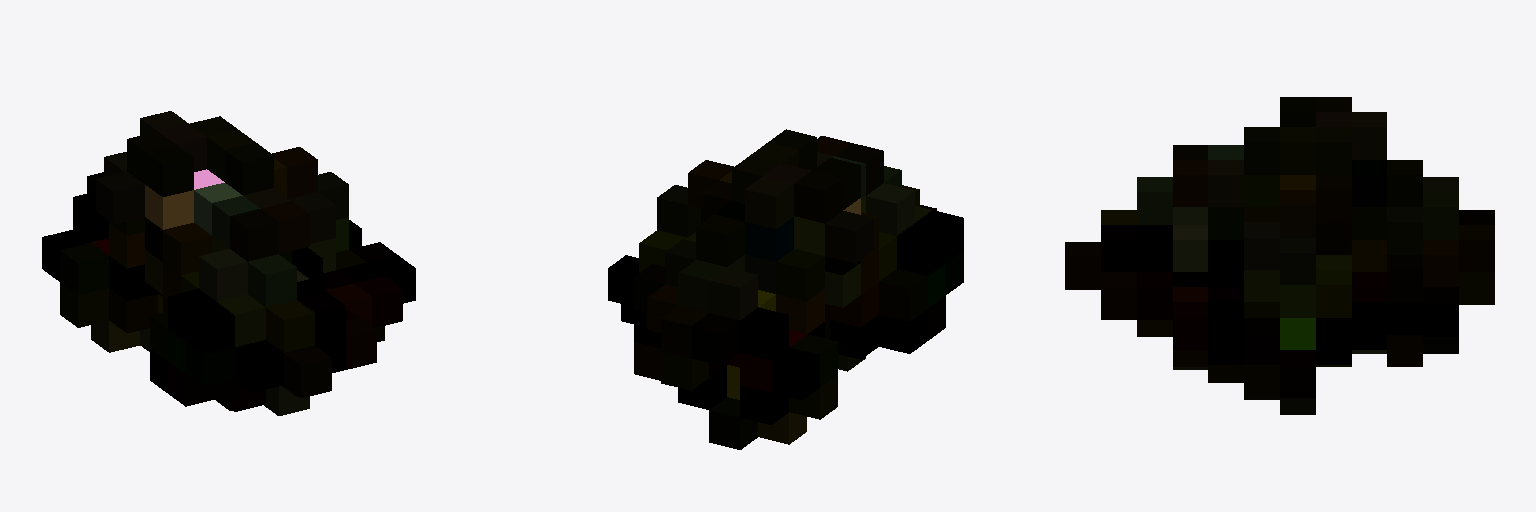
The model's file is iter_5.obj.
The picture shows the model from 3 angles: view 1: azimuth 30°, elevation 25°; view 2: azimuth 150°, elevation 25°; view 3: azimuth 270°, elevation 25°; orthographic projection.
Parts seen in each view (by area): view 1: iter_5; view 2: iter_5; view 3: iter_5.
Boxes of the visible parts, <box> form: iter_5: <box>42,111,415,415</box>; iter_5: <box>608,129,963,449</box>; iter_5: <box>1065,97,1494,414</box>.
Bounding box in the file's own units: 0.8 × 0.7 × 1.2.